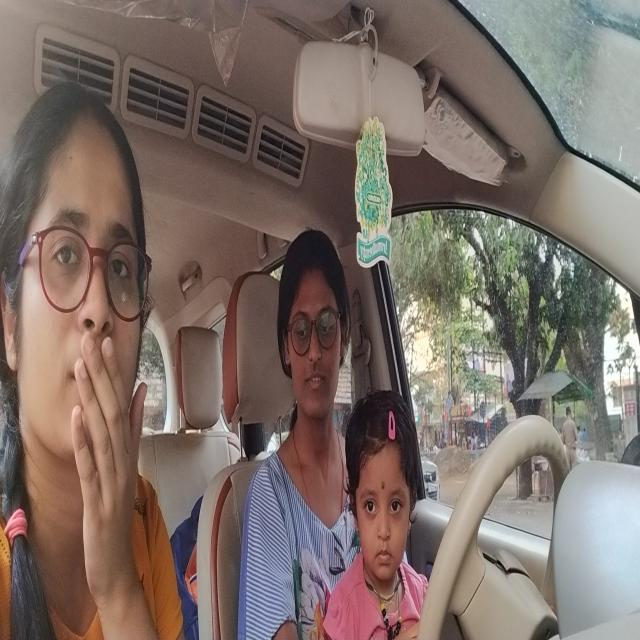child: (343, 379, 425, 593)
person: (0, 65, 162, 465), (276, 223, 352, 427)
